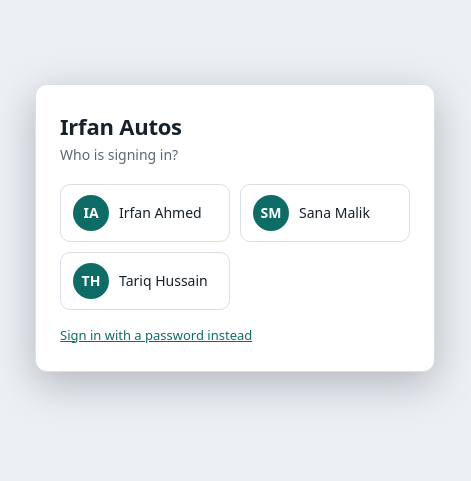
it: password sign-in fallback › shows a wrong password plainly and empties the password box
Click the button "Sign in with a password instead".
click(156, 335)  # box [60, 326, 252, 344]
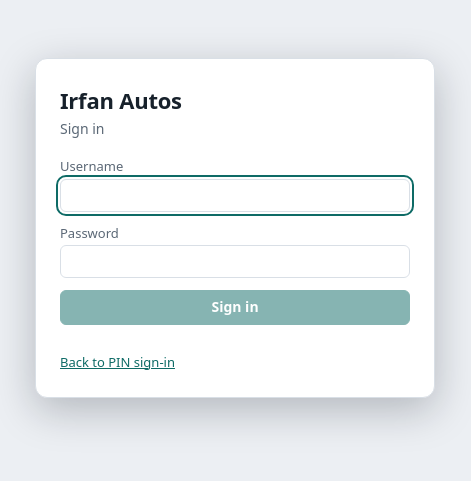
Type "irfan" into the field labelled "Username".
click(235, 195); type("irfan")  # box [60, 179, 410, 212]
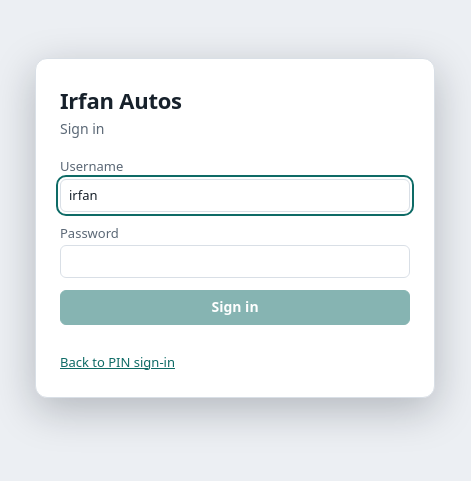
Type "not-the-password" into the password field labelled "Password".
click(235, 262); type("not-the-password")  # box [60, 245, 410, 278]
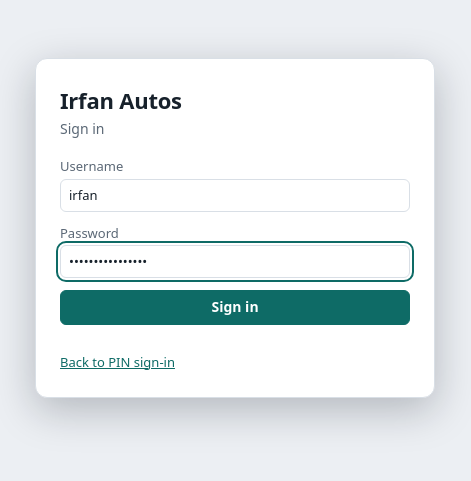
Click the button "Sign in".
click(235, 307)  # box [60, 290, 410, 324]
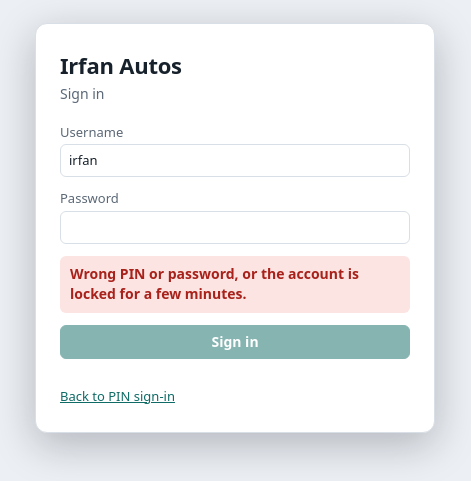
Now the message shows "Wrong PIN or password", box [70, 264, 359, 303]
Now the password field labelled "Password" is empty, box [60, 211, 410, 244]
